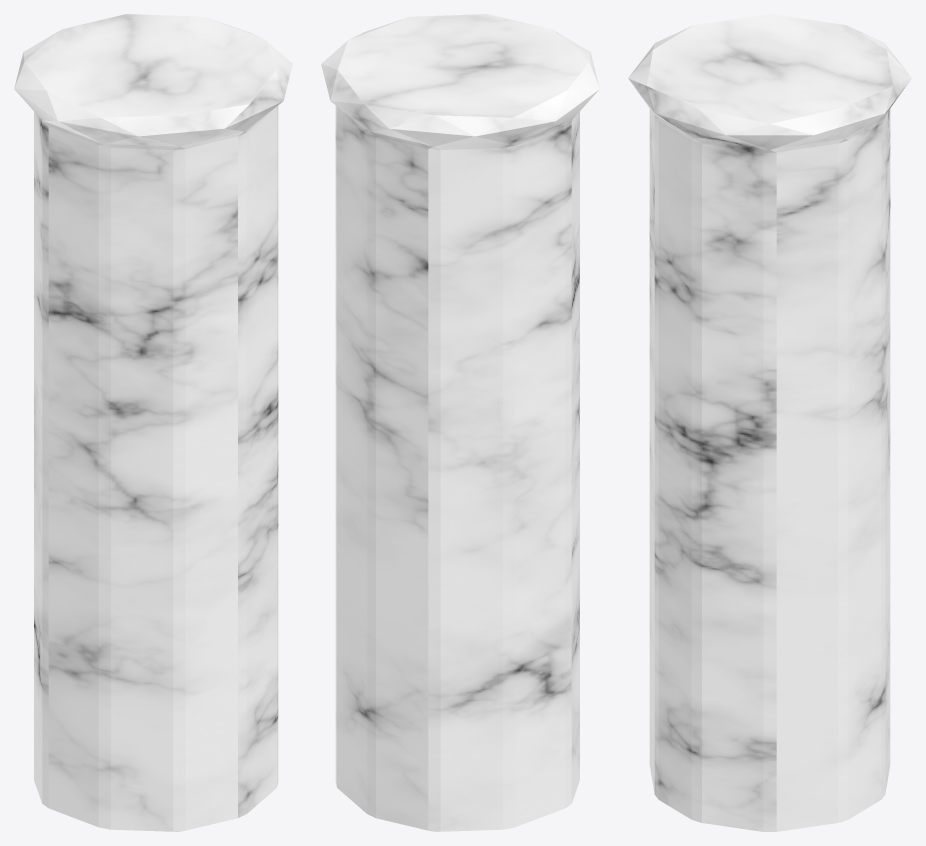
The model's file is Pillar.glb.
3 views of the same model, side by side, from view 1: azimuth 30°, elevation 25°; view 2: azimuth 150°, elevation 25°; view 3: azimuth 270°, elevation 25° (orthographic).
Parts seen in each view (by area): view 1: Icosphere; view 2: Icosphere; view 3: Icosphere.
Part boxes in pixels (box(x1,y1,x2,y2)): Icosphere: box(14, 14, 292, 831); Icosphere: box(321, 14, 599, 831); Icosphere: box(628, 14, 911, 831).
Size of the model in its own units: 5.79 by 16.95 by 6.08.
1 material, 1 textured.
